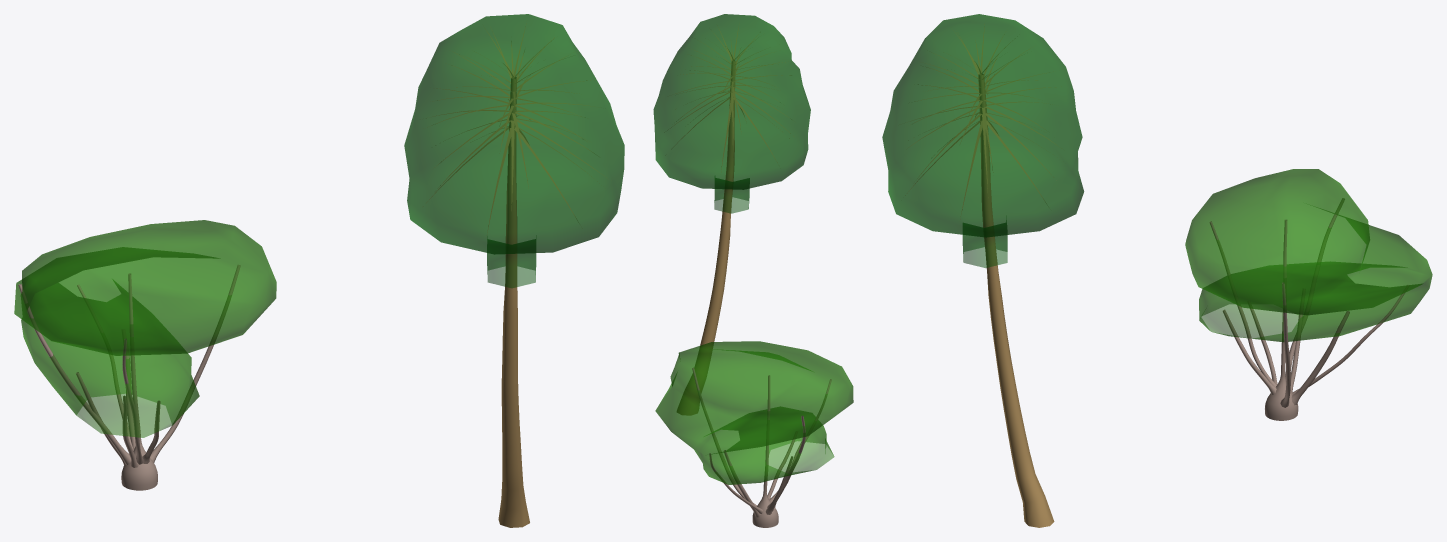
Rendered from arboles.FBX.
3 renders of one model, left to right at view 1: azimuth 30°, elevation 25°; view 2: azimuth 150°, elevation 25°; view 3: azimuth 270°, elevation 25°, orthographic. The views are drawn at different scales.
Visible parts, largest first — view 1: Foliage002, Foliage001; view 2: Foliage002, Foliage001; view 3: Foliage002, Foliage001.
Boxes of the visible parts, box(x1,y1,x2,y2) form: Foliage002: box(404, 14, 624, 527); Foliage001: box(14, 220, 276, 490); Foliage002: box(653, 14, 810, 415); Foliage001: box(655, 341, 853, 527); Foliage002: box(882, 14, 1084, 527); Foliage001: box(1185, 169, 1432, 420).
Bounding box in the file's own units: 342 × 403 × 427.
